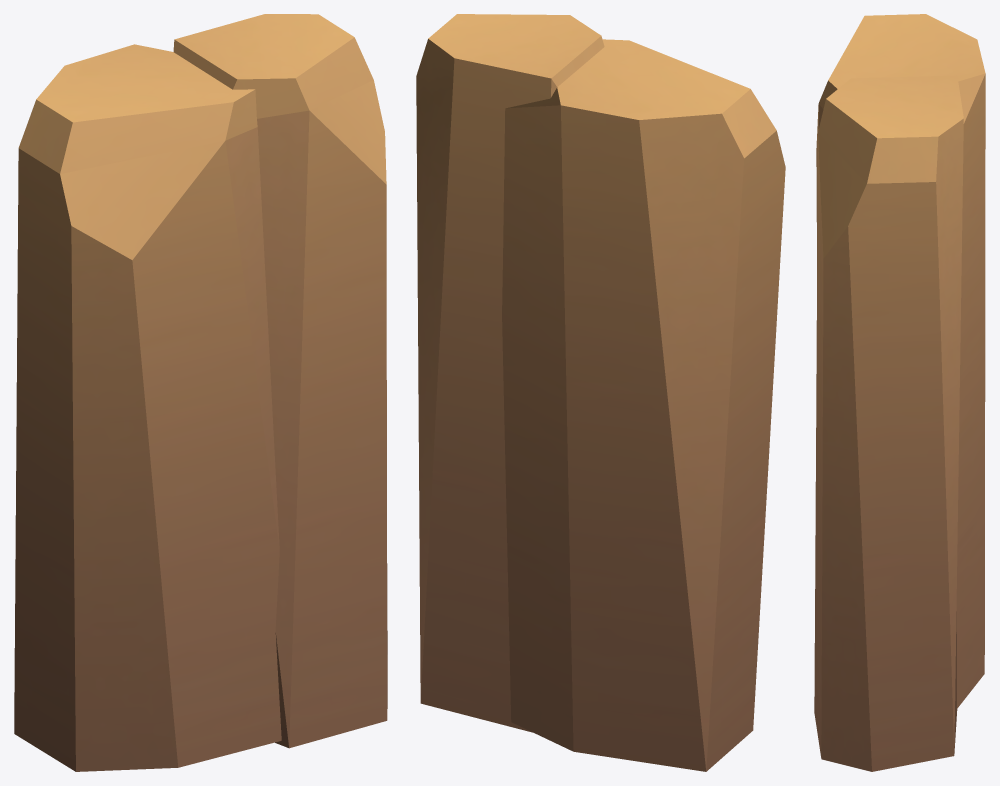
Rendered from tile rock c.fbx.
The picture shows the model from 3 angles, left to right: view 1: azimuth 30°, elevation 25°; view 2: azimuth 150°, elevation 25°; view 3: azimuth 270°, elevation 25°; orthographic projection. The views are drawn at different scales.
Parts seen in each view (by area): view 1: tile_rockc; view 2: tile_rockc; view 3: tile_rockc.
Boxes of the visible parts, x1=… form: tile_rockc: x1=14, y1=14, x2=387, y2=771; tile_rockc: x1=416, y1=14, x2=785, y2=771; tile_rockc: x1=814, y1=14, x2=985, y2=771.
Bounding box in the file's own units: 5.68 × 10.49 × 2.63.
Materials: 1 (1 with a texture image).
